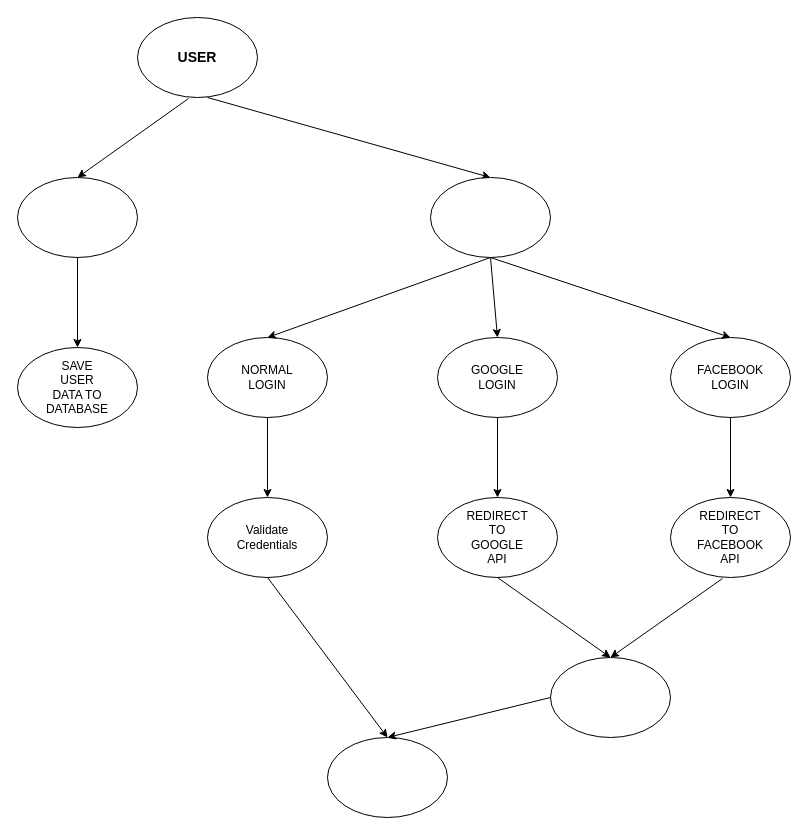
Image size: 808x835. Some labels were removed from this diagram. The centre of each missing label's shape, as x and y in pixels:
LOGIN: the point at 490,217
REDIRECT TO LANDING PAGE: the point at 387,777
REGISTER: the point at 77,217
VALIDATE TOKEN: the point at 610,697
